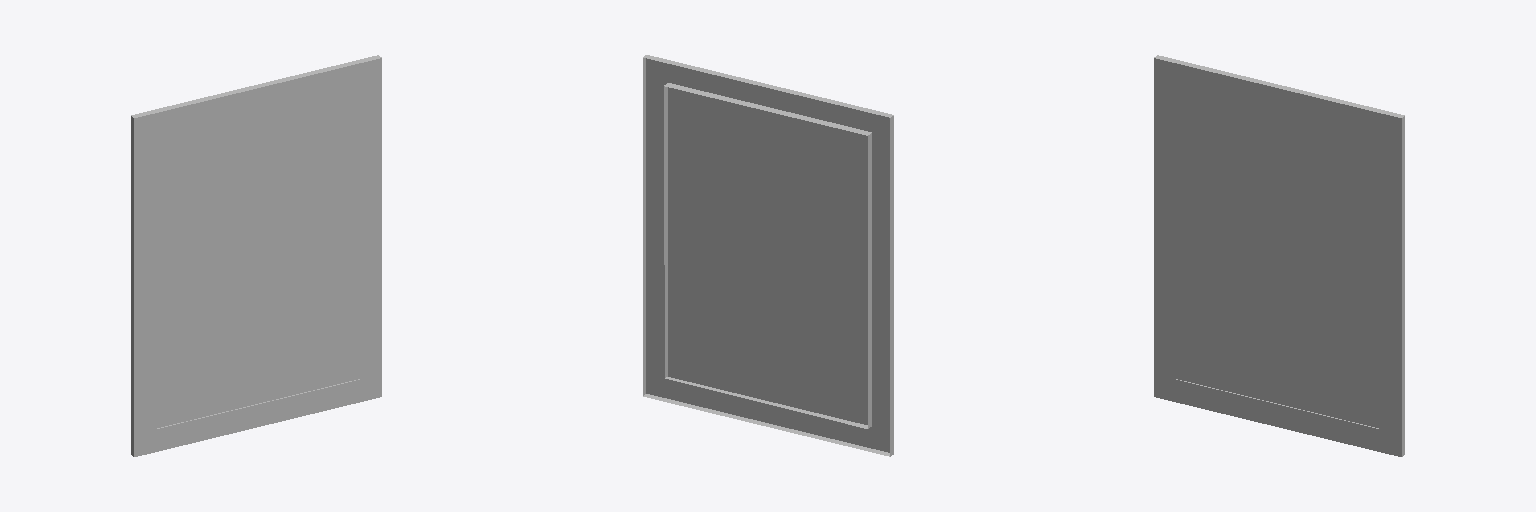
File: crate.obj
The picture shows the model from 3 angles: view 1: azimuth 30°, elevation 25°; view 2: azimuth 150°, elevation 25°; view 3: azimuth 330°, elevation 25°; orthographic projection.
Parts seen in each view (by area): view 1: Cuadro_Aquelarre, Marco_Dorado_01_Aquelarre; view 2: Cuadro_Aquelarre, Marco_Dorado_01_Aquelarre; view 3: Cuadro_Aquelarre, Marco_Dorado_01_Aquelarre.
Part boxes in pixels (bbox=[...]): Cuadro_Aquelarre: bbox=[156, 86, 359, 428]; Marco_Dorado_01_Aquelarre: bbox=[131, 55, 381, 456]; Cuadro_Aquelarre: bbox=[664, 83, 871, 428]; Marco_Dorado_01_Aquelarre: bbox=[643, 55, 893, 456]; Cuadro_Aquelarre: bbox=[1176, 86, 1379, 428]; Marco_Dorado_01_Aquelarre: bbox=[1154, 55, 1404, 456].
Bounding box in the file's own units: 36.4 × 47.6 × 1.18.